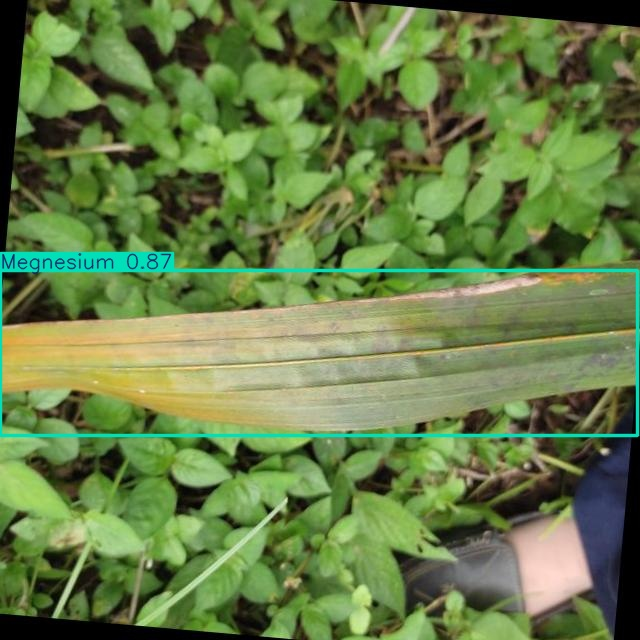Megnesium: (0, 270, 638, 435)
